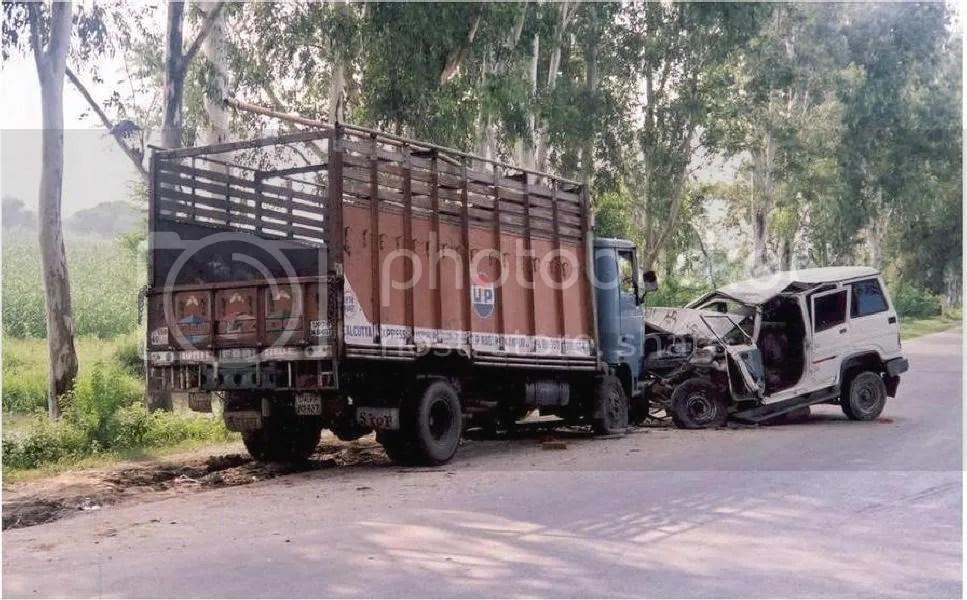truck: (127, 108, 640, 466)
